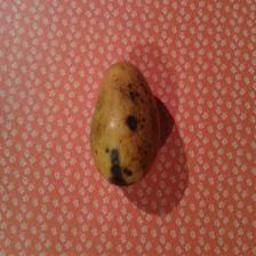Mango Semirotten: (85, 54, 167, 198)
